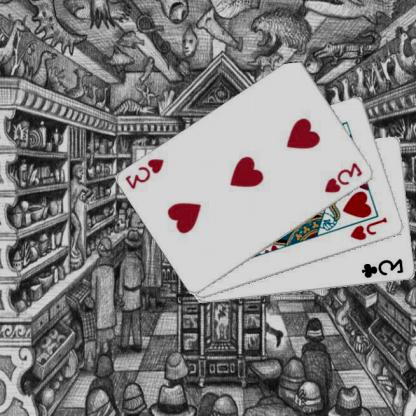3C: (361, 256, 407, 280)
3H: (125, 156, 168, 191), (324, 160, 366, 194)
JH: (349, 215, 391, 242)
